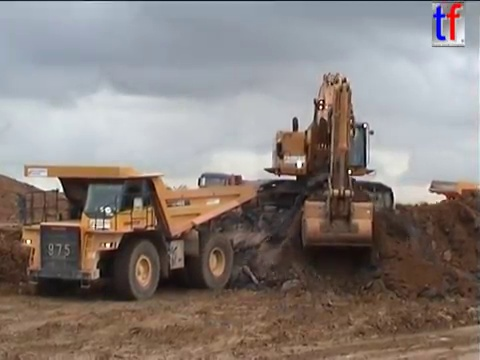excavator: (245, 69, 396, 248)
truck: (14, 162, 259, 302), (196, 171, 292, 212), (426, 177, 480, 207)
